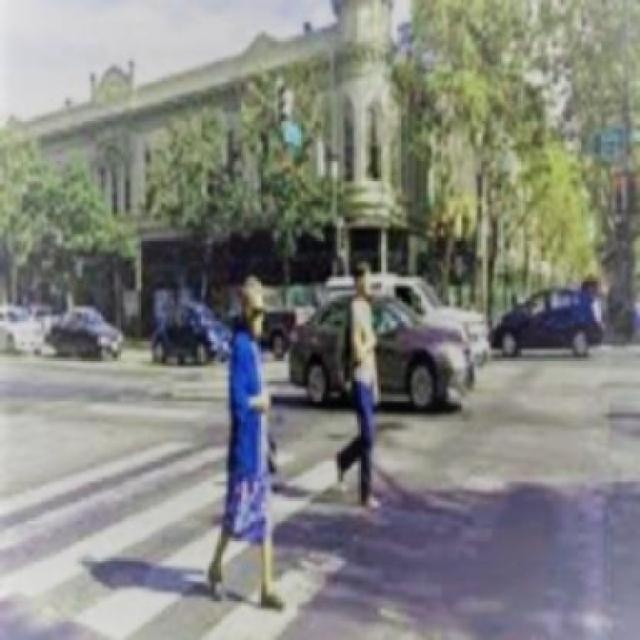obstacle: (198, 263, 290, 611), (326, 255, 394, 513)
